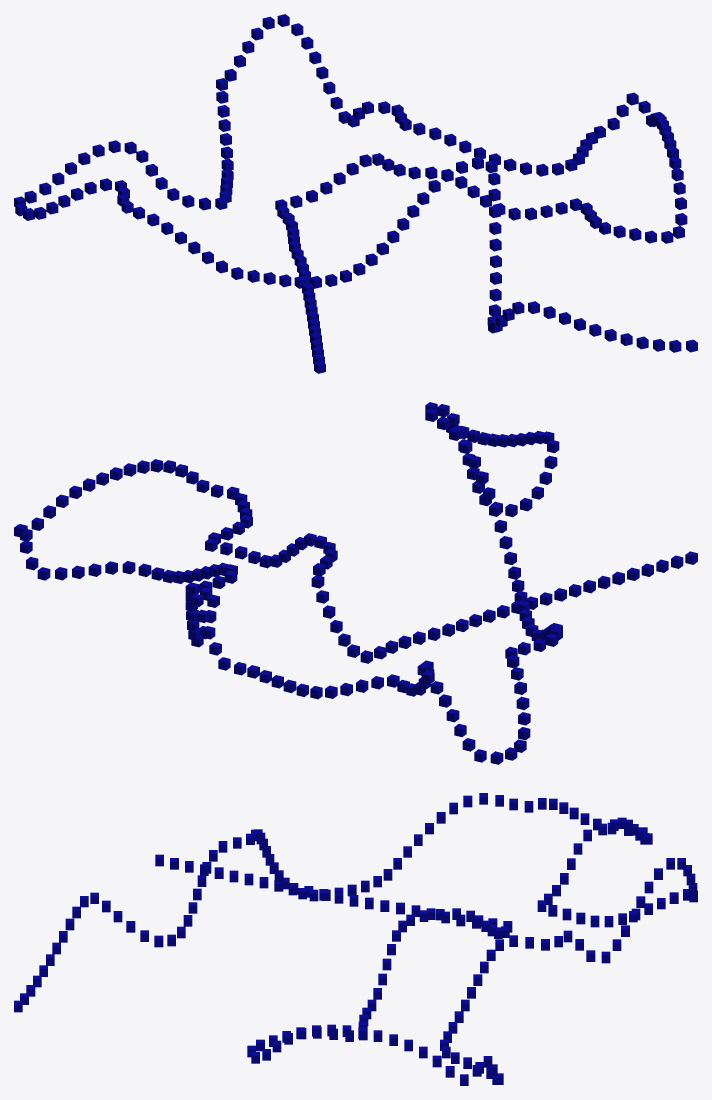
The model's file is BOXb.dae.
3 views of the same model, one above another, from view 1: azimuth 30°, elevation 25°; view 2: azimuth 150°, elevation 25°; view 3: azimuth 270°, elevation 25° (orthographic). The views are drawn at different scales.
Size of the model in its own units: 730020 by 782860 by 161623.
